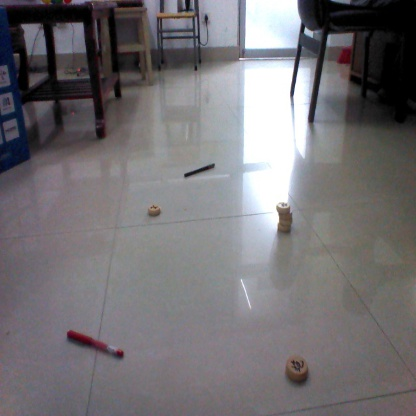chess: (270, 200, 295, 234), (283, 353, 312, 379), (148, 203, 162, 217)
pen: (66, 330, 128, 356), (184, 160, 218, 178)
